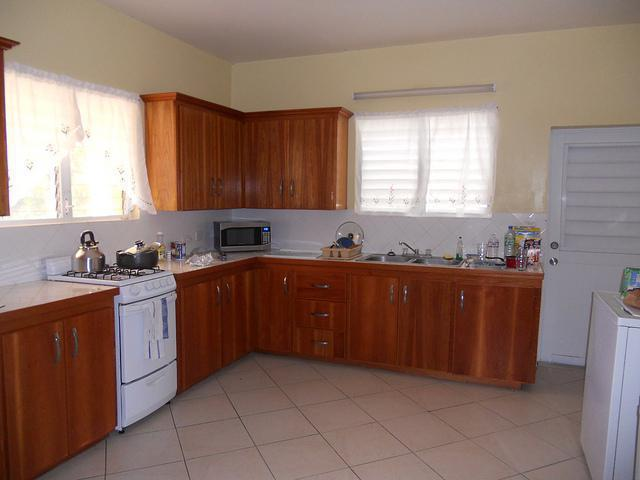Lavaplatos: (354, 239, 462, 269)
